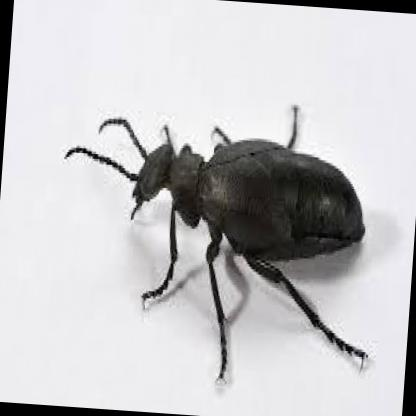blister beetle: (65, 108, 366, 381)
